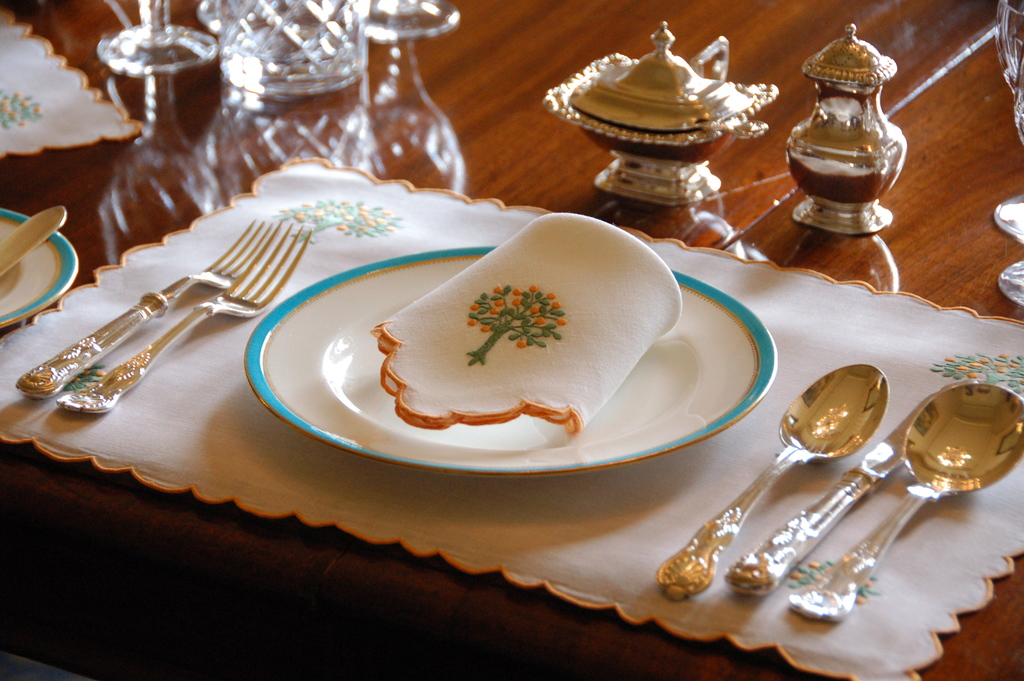plate: (245, 242, 776, 479)
